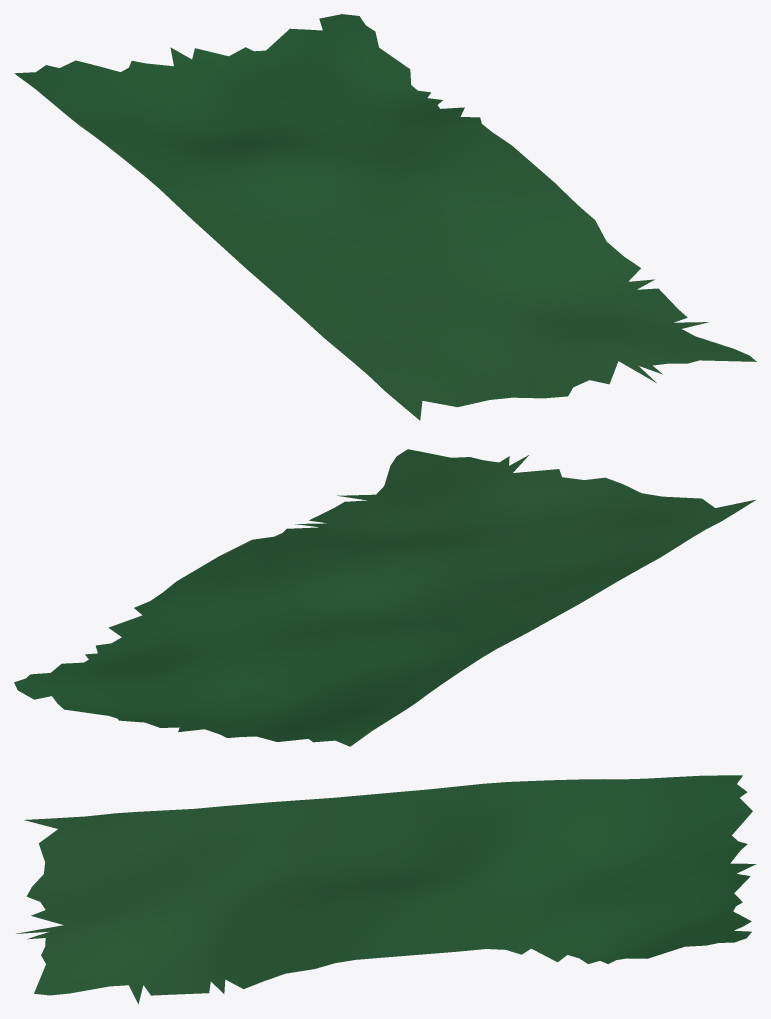
Rendered from payo_land_x4_y5.glb.
3 renders of one model, top to bottom at view 1: azimuth 30°, elevation 25°; view 2: azimuth 150°, elevation 25°; view 3: azimuth 270°, elevation 25°, orthographic. The views are drawn at different scales.
Visible parts, largest first — view 1: payo_land_x4_y5; view 2: payo_land_x4_y5; view 3: payo_land_x4_y5.
Part boxes in pixels (box(x1,y1,x2,y2)): payo_land_x4_y5: box(14, 14, 756, 420); payo_land_x4_y5: box(14, 449, 755, 746); payo_land_x4_y5: box(16, 775, 756, 1004).
Bounding box in the file's own units: 132 × 30.49 × 271.
